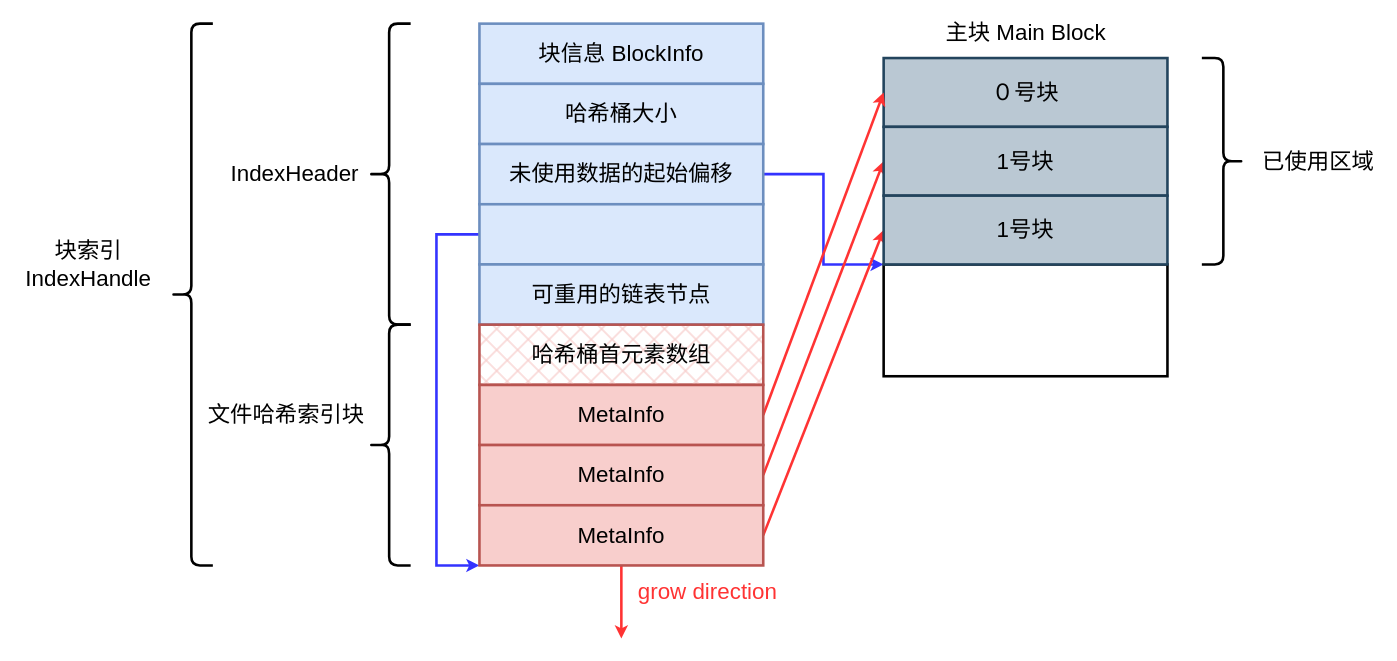
The diagram is 1397 pixels wide and 661 high, and some of its shapes have lost their labels. Here are the shapes that lost their labels. From the top down, the centre of each, then its label:
(x=621, y=234): 索引文件当前偏移
(x=1025, y=320): 未使用区域
